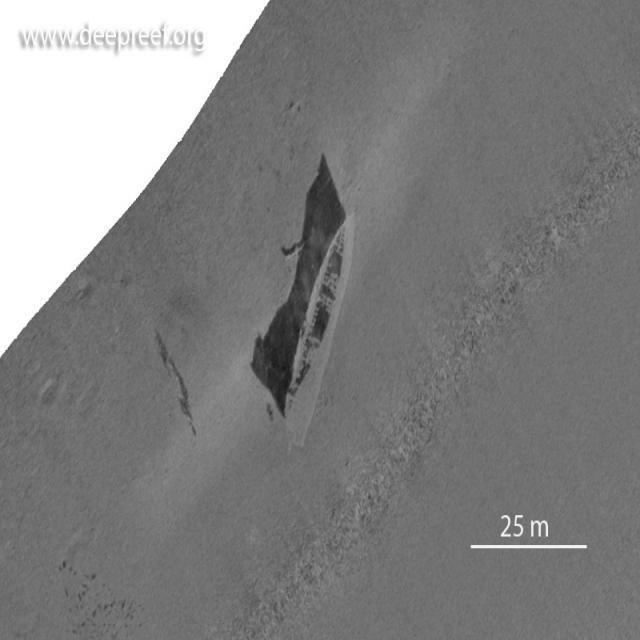shipwreck: (266, 150, 353, 452)
